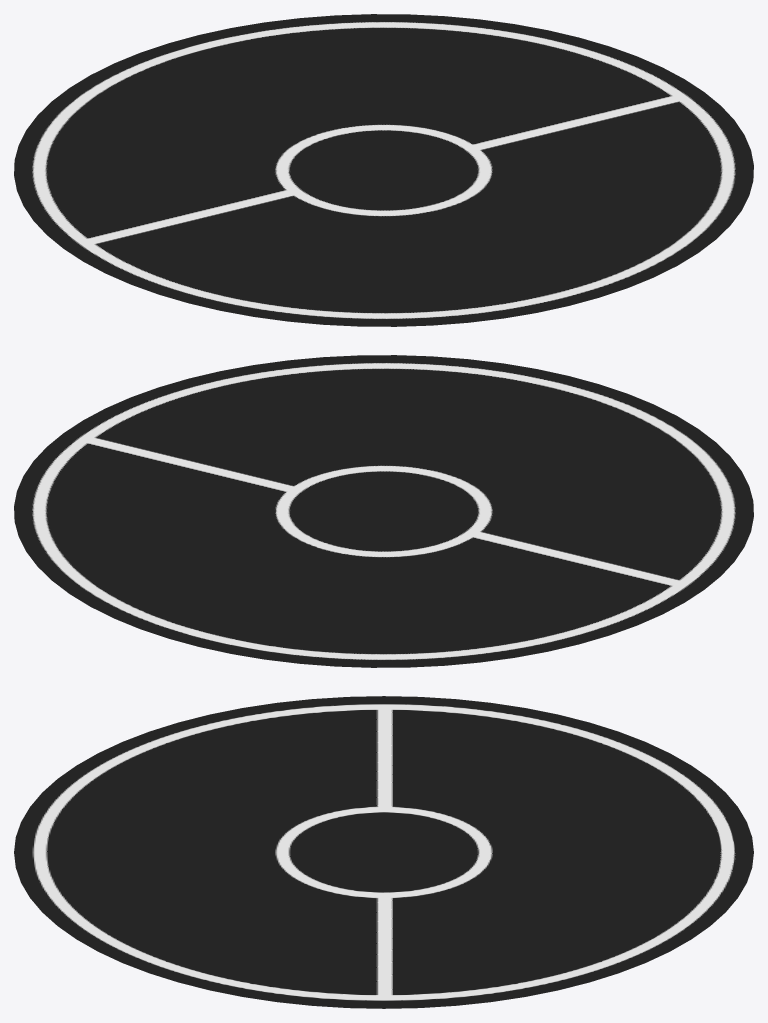
File: Sumo_Platform.fbx
3 renders of one model, top to bottom at view 1: azimuth 30°, elevation 25°; view 2: azimuth 150°, elevation 25°; view 3: azimuth 270°, elevation 25°, orthographic.
Visible parts, largest first — view 1: Circle; view 2: Circle; view 3: Circle.
Boxes of the visible parts, x1=… form: Circle: x1=14, y1=14, x2=753, y2=326; Circle: x1=14, y1=355, x2=753, y2=667; Circle: x1=14, y1=696, x2=753, y2=1008.
Size of the model in its own units: 200 by 3.26e-05 by 200.
